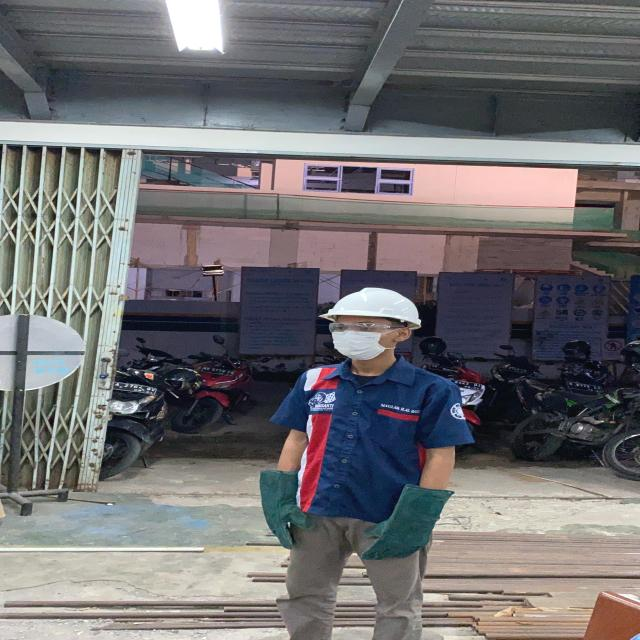face_mask: (326, 318, 398, 359)
glasses: (323, 320, 407, 336)
hand_glove: (358, 514, 438, 563), (255, 497, 323, 552)
head_helmet: (318, 286, 427, 324)
person: (245, 281, 488, 640)
